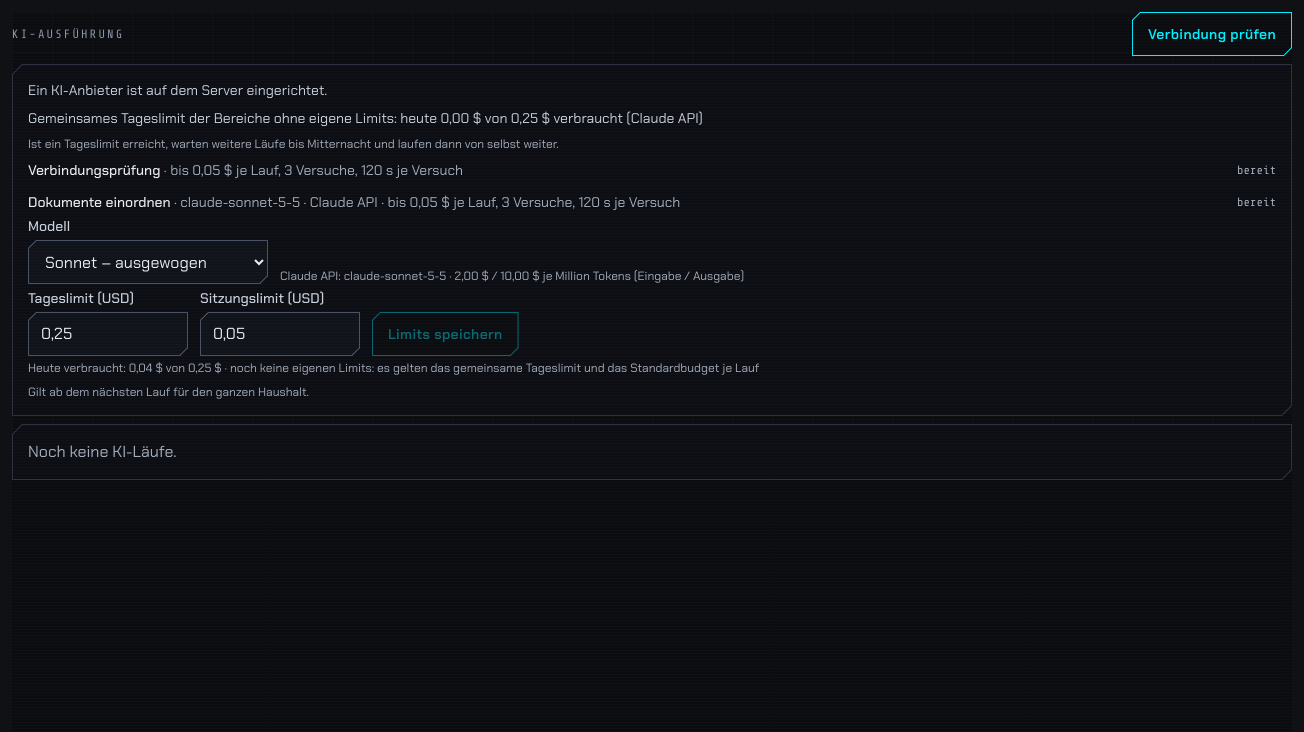
Test: AI model choice › explains a concurrent change by the other member and shows their choice
Select "Haiku – am schnellsten und günstigsten" in the dropdown with test id "ai-model-DOCUMENT_CLASSIFICATION". click: (148, 262)
box: left=28, top=240, right=268, bottom=284
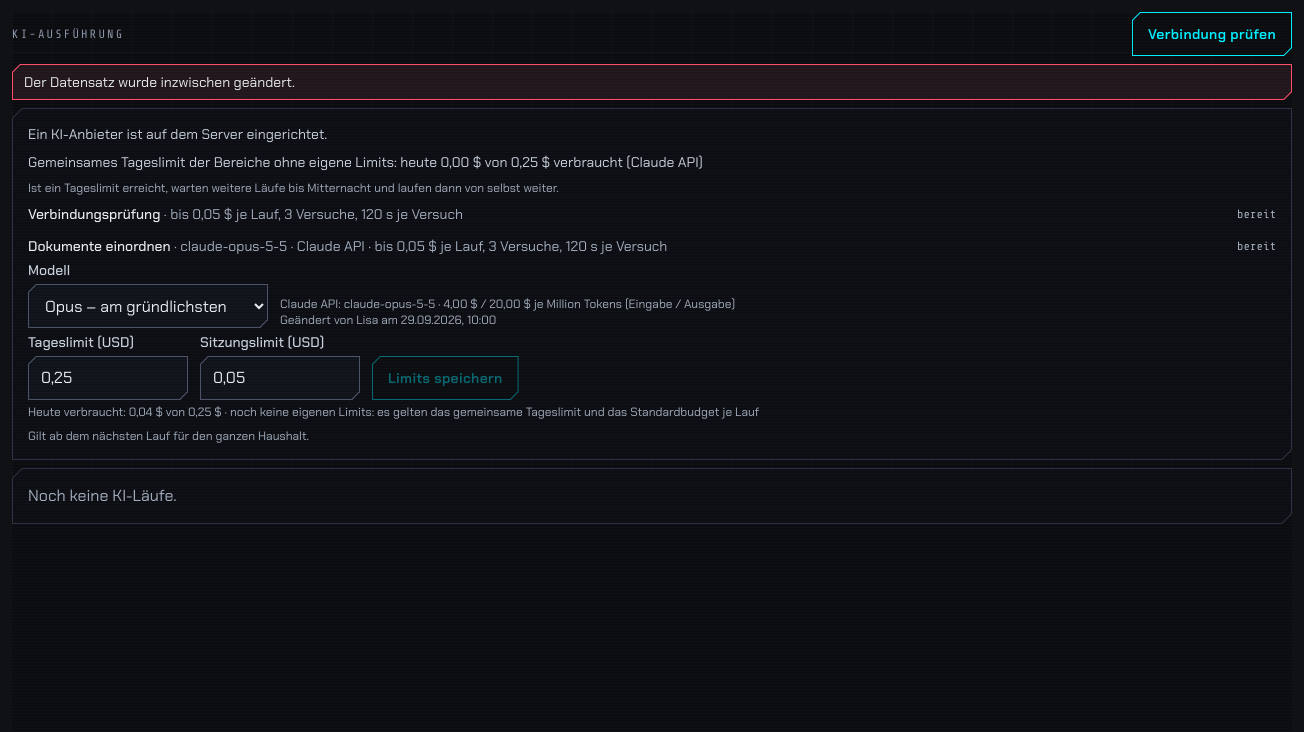
expect the text "Der Datensatz wurde inzwischen geändert." is shown: met, box left=24, top=73, right=295, bottom=91
expect the text "Geändert von Lisa" is shown: met, box left=280, top=312, right=496, bottom=328
